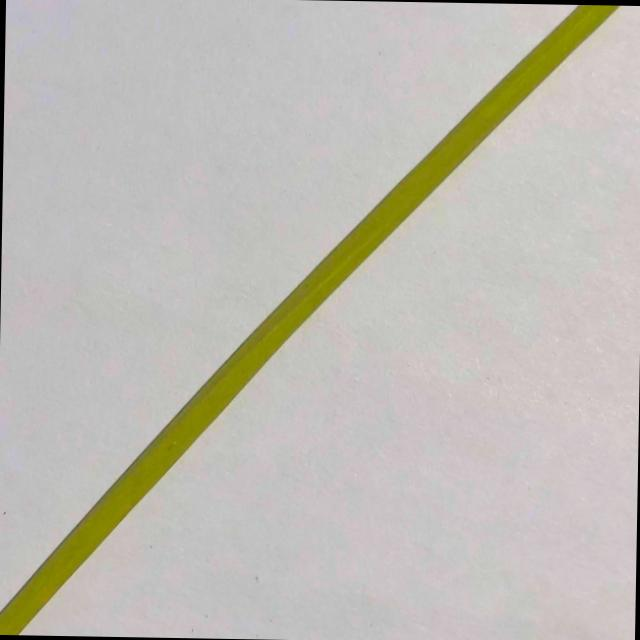Rice_Healthy: (0, 4, 618, 634)
